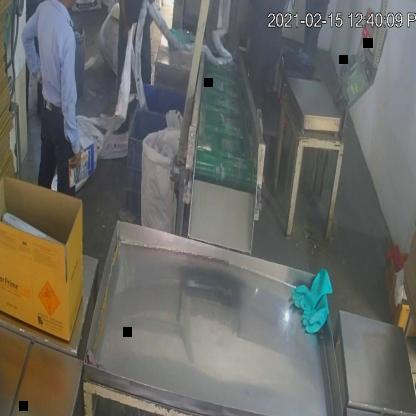glove: (287, 268, 336, 340)
no_glove: (61, 28, 87, 172)
